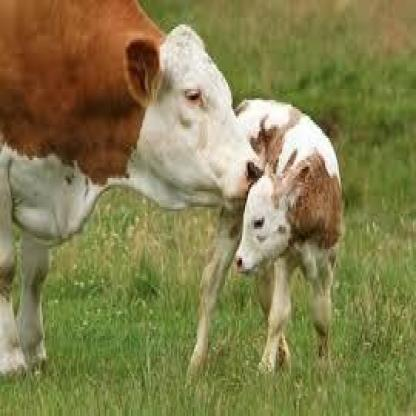cow: (0, 3, 263, 376), (189, 103, 343, 366)
